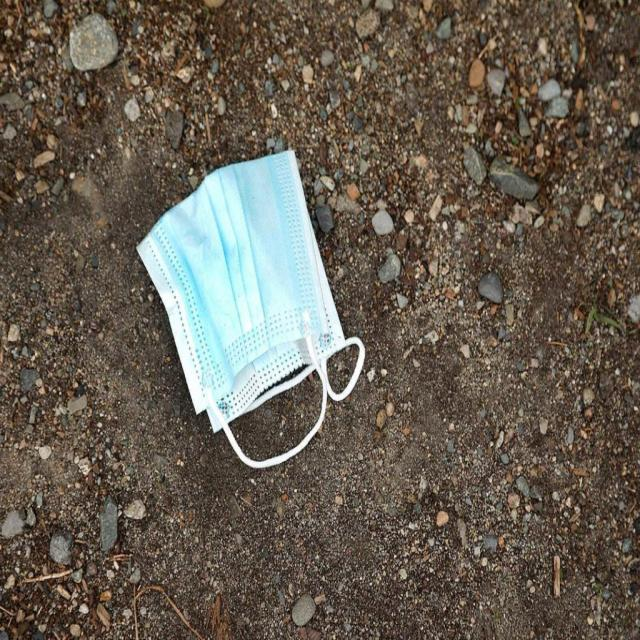non-organic waste: (138, 147, 373, 469)
